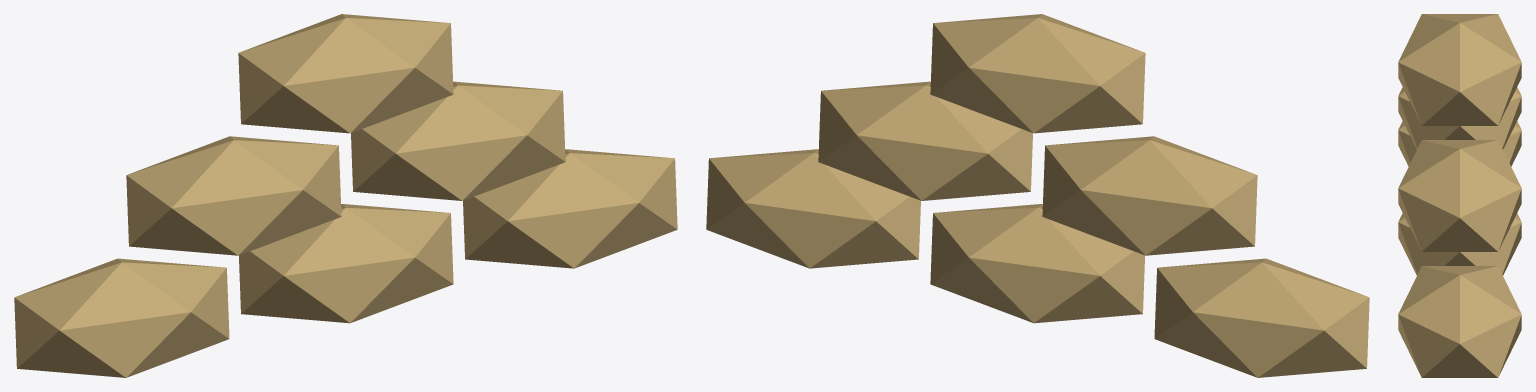
The model's file is Sandbags.fbx.
3 renders of one model, left to right at view 1: azimuth 30°, elevation 25°; view 2: azimuth 150°, elevation 25°; view 3: azimuth 270°, elevation 25°, orthographic. The views are drawn at different scales.
Parts seen in each view (by area): view 1: Sandbags; view 2: Sandbags; view 3: Sandbags.
Boxes of the visible parts, box(x1,y1,x2,y2) form: Sandbags: box(14, 14, 677, 377); Sandbags: box(706, 14, 1369, 377); Sandbags: box(1398, 14, 1521, 377).
Bounding box in the file's own units: 1.23 × 0.54 × 0.2382.
